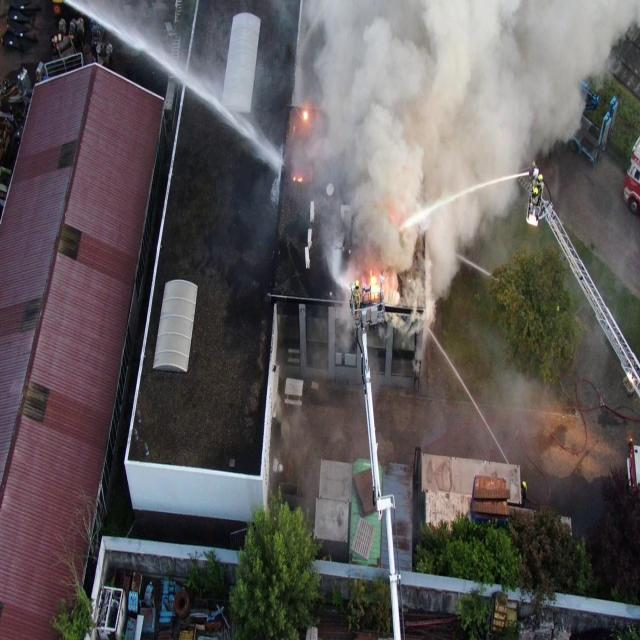Fire: (370, 270, 382, 300), (303, 112, 308, 122), (298, 178, 303, 182), (293, 177, 296, 180)
Smoke: (269, 0, 640, 492)
